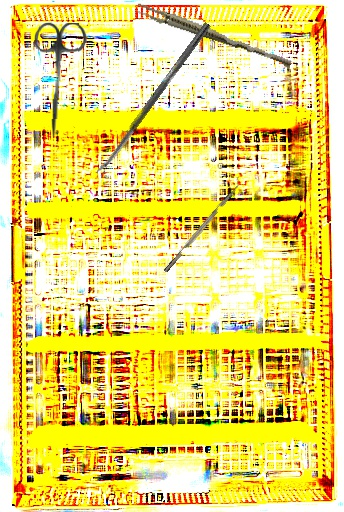Chopper: (159, 176, 245, 273)
Iris Scissors: (28, 21, 88, 140)
Surgical Spoon: (95, 21, 211, 177)
Tissue Forceps: (134, 1, 294, 70)
